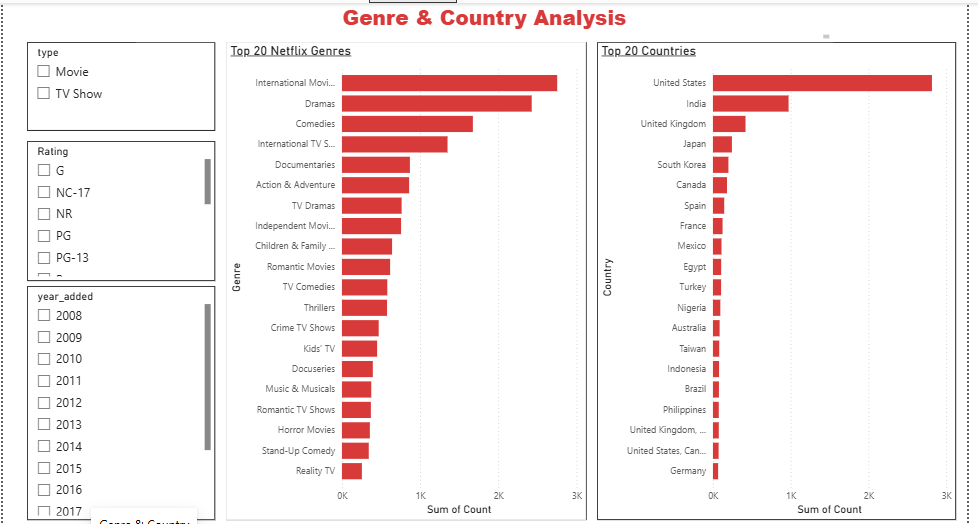

The page's visual inventory and layout, read from the dashboard file:
{"tool":"powerbi","page":{"name":"Genre & Country","canvas":[1280,720],"ordinal":1},"visuals":[{"type":"slicer","fields":{"Values":["netflix_cleaned.type"]},"box":[31.9,52.1,250.3,117.6],"z":0},{"type":"slicer","fields":{"Values":["rating_counts.Rating"]},"box":[31.9,183.1,250.3,186.5],"z":1000},{"type":"slicer","fields":{"Values":["netflix_cleaned.year_added"]},"box":[31.9,376.3,250.3,310.8],"z":2000},{"type":"barChart","title":"Top 20 Netflix Genres","fields":{"Category":["genre_counts.Genre"],"Y":["Sum(genre_counts.Count)"]},"box":[295.6,52.1,478.7,635],"z":3000},{"type":"barChart","title":"Top 20 Countries","fields":{"Category":["country_counts.Country"],"Y":["Sum(country_counts.Count)"]},"box":[789.5,52.1,477.1,635],"z":4000},{"type":"textbox","title":"Genre & Country Analysis","box":[176.4,0,925.6,52.1],"z":5000}]}

Visuals, with their boxes on the page's 1280x720 design canvas (x1, y1, x2, y2). These are canvas units, not pixel positions in the 978x524 screenshot, which may show the page scaled, cropped or inside an application window:
slicer - netflix_cleaned.type: [x1=32, y1=52, x2=282, y2=170]
slicer - rating_counts.Rating: [x1=32, y1=183, x2=282, y2=370]
slicer - netflix_cleaned.year_added: [x1=32, y1=376, x2=282, y2=687]
"Top 20 Netflix Genres" barChart: [x1=296, y1=52, x2=774, y2=687]
"Top 20 Countries" barChart: [x1=790, y1=52, x2=1267, y2=687]
"Genre & Country Analysis" textbox: [x1=176, y1=0, x2=1102, y2=52]
